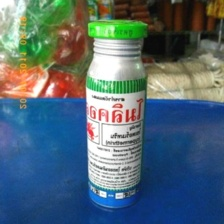insecticide: (82, 14, 152, 213)
